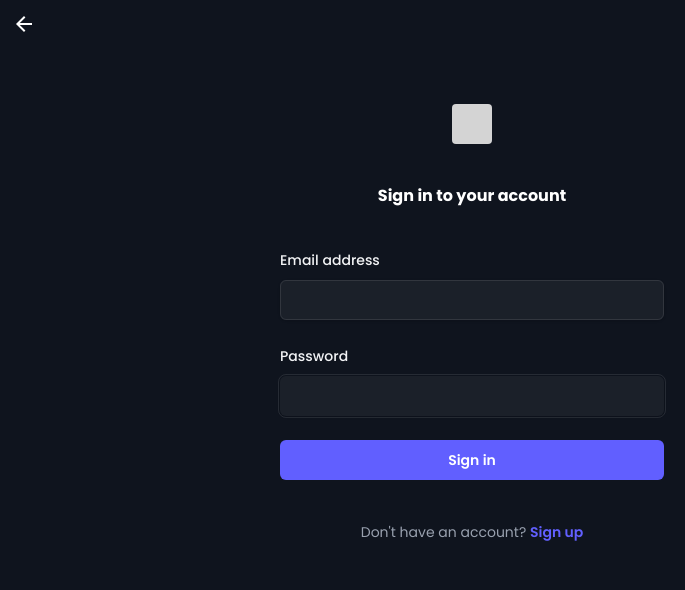
Login Component › should display error message when there's an error
Type "luka@gmail.com" into the field with test id "email-input" at (472, 300), box [280,280,664,320]
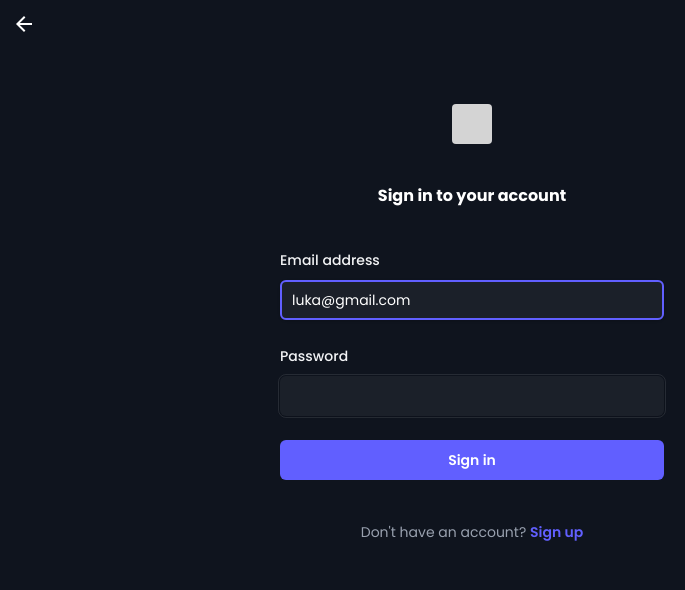
Type "password" into the password field with test id "password-input" at (472, 396), box [280,376,664,416]
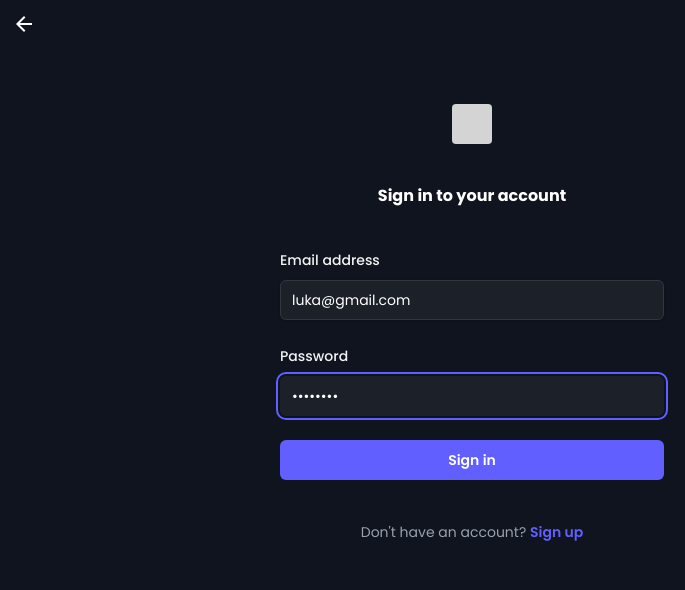
Click the button with test id "sign-in-button" at (472, 460), box [280,440,664,480]
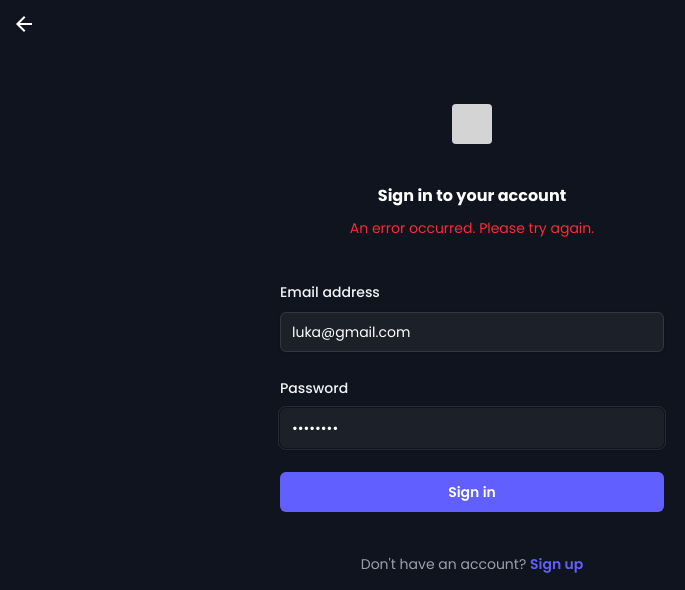
Expected: the text "An error occurred. Please try again." is shown, [350,218,594,238]
